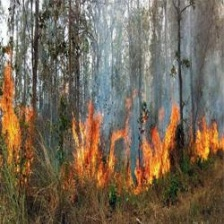fire: (1, 78, 28, 165), (74, 119, 108, 183), (139, 131, 171, 177), (199, 128, 223, 157)
